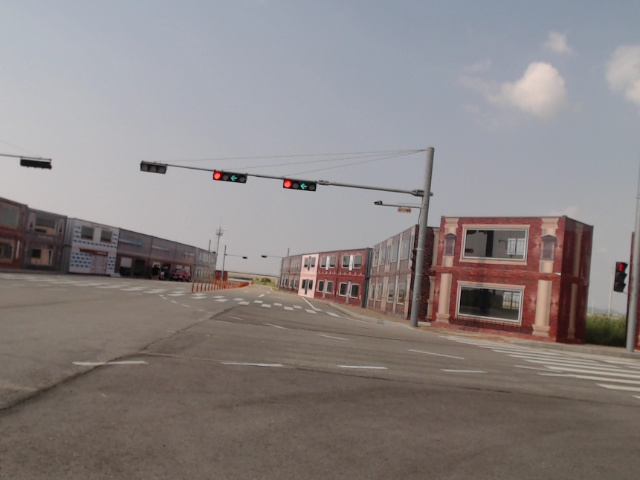left_green_4: (283, 179, 316, 191), (214, 171, 246, 183)
